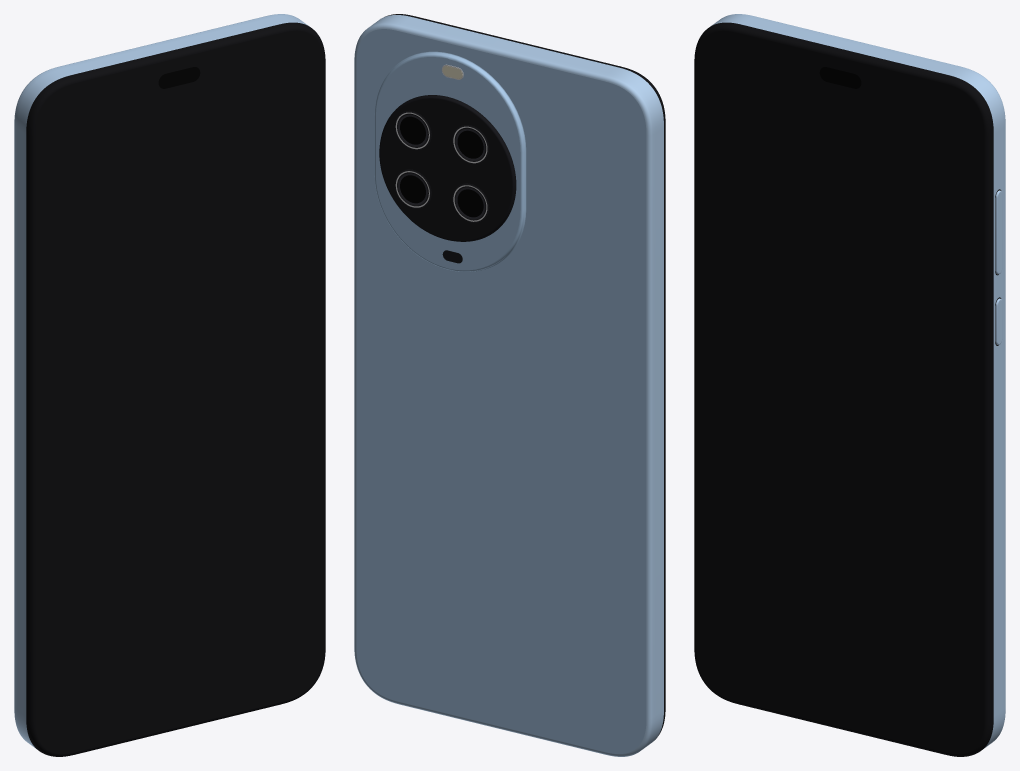
The model's file is huawei-nova-14-pro.glb.
The picture shows the model from 3 angles, left to right: view 1: azimuth 30°, elevation 25°; view 2: azimuth 150°, elevation 25°; view 3: azimuth 330°, elevation 25°; orthographic projection.
Parts seen in each view (by area): view 1: body, punch; view 2: body, camera; view 3: body, buttons, punch.
Boxes of the visible parts, x1,y1,x2,y2 form: body: (14, 14, 325, 756); punch: (158, 67, 200, 88); body: (354, 14, 665, 756); camera: (374, 51, 526, 271); body: (694, 14, 1005, 756); buttons: (995, 189, 1002, 345); punch: (819, 67, 861, 88).
Bounding box in the file's own units: 75.43 × 163 × 9.96.
